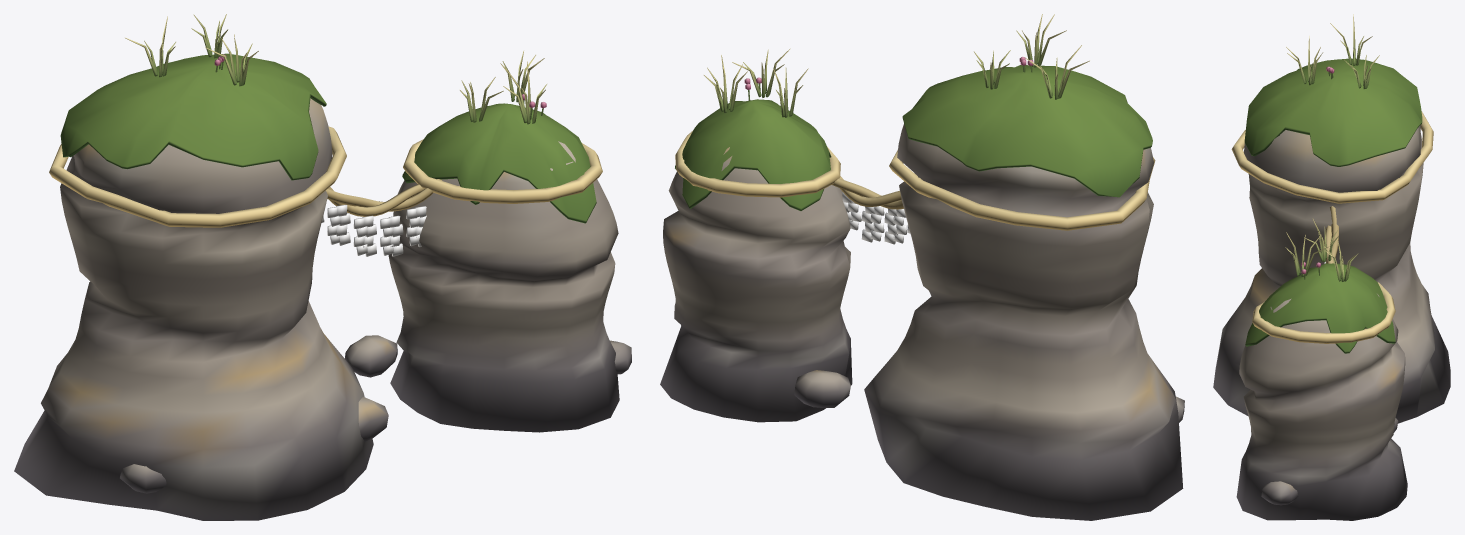
File: rg-tidepool-weddedRocks.glb
3 views of the same model, side by side, from view 1: azimuth 30°, elevation 25°; view 2: azimuth 150°, elevation 25°; view 3: azimuth 270°, elevation 25° (orthographic). The views are drawn at different scales.
Parts seen in each view (by area): view 1: rg-tidepool-weddedRocks_rock, rg-tidepool-weddedRocks, rg-tidepool-weddedRocks_reed, rg-tidepool-weddedRocks_cloth; view 2: rg-tidepool-weddedRocks_rock, rg-tidepool-weddedRocks, rg-tidepool-weddedRocks_reed, rg-tidepool-weddedRocks_cloth; view 3: rg-tidepool-weddedRocks_rock, rg-tidepool-weddedRocks, rg-tidepool-weddedRocks_reed.
Part boxes in pixels (x1,y1,x2,y2): rg-tidepool-weddedRocks_rock: (14,53,631,520); rg-tidepool-weddedRocks: (49,126,602,227); rg-tidepool-weddedRocks_reed: (125,14,546,124); rg-tidepool-weddedRocks_cloth: (321,204,426,256); rg-tidepool-weddedRocks_rock: (660,56,1184,520); rg-tidepool-weddedRocks: (675,131,1155,230); rg-tidepool-weddedRocks_reed: (704,14,1089,117); rg-tidepool-weddedRocks_cloth: (842,192,910,244); rg-tidepool-weddedRocks_rock: (1213,58,1450,520); rg-tidepool-weddedRocks: (1231,111,1433,343); rg-tidepool-weddedRocks_reed: (1285,14,1379,281).
Size of the model in its own units: 7.68 by 5.75 by 3.67.
